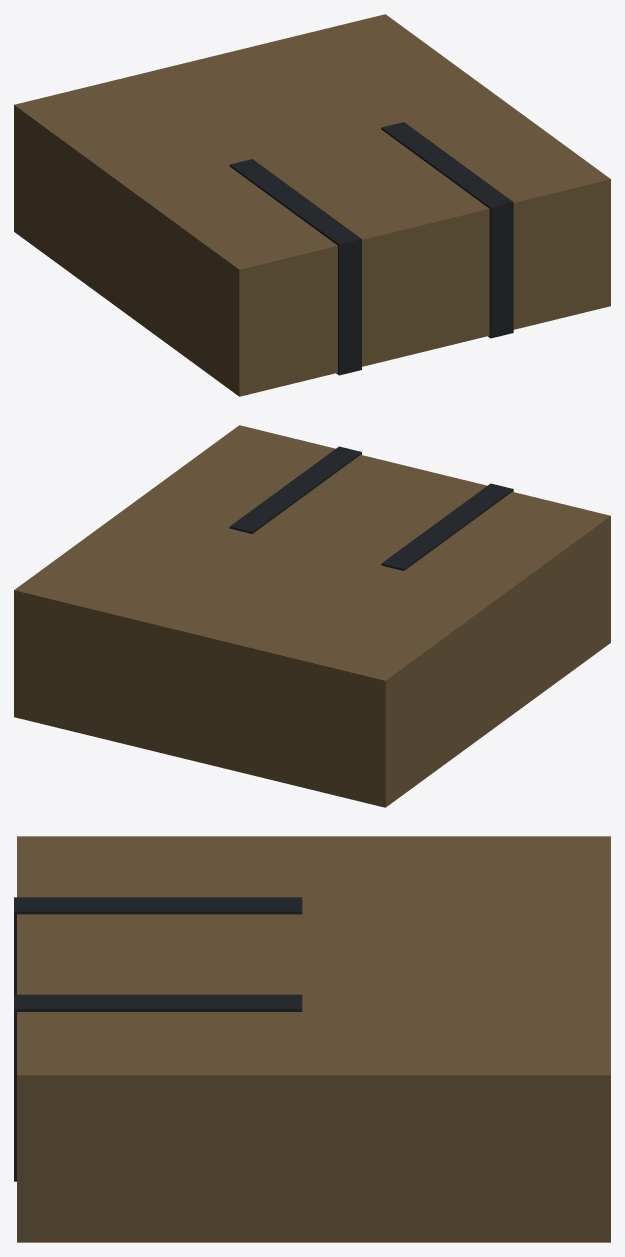
File: pc_engineer_hand.fbx
The picture shows the model from 3 angles, top to bottom: view 1: azimuth 30°, elevation 25°; view 2: azimuth 150°, elevation 25°; view 3: azimuth 270°, elevation 25°; orthographic projection. The views are drawn at different scales.
Parts seen in each view (by area): view 1: pc_engineer_hand; view 2: pc_engineer_hand; view 3: pc_engineer_hand.
Part boxes in pixels (<box>): pc_engineer_hand: <box>14,14,610,396</box>; pc_engineer_hand: <box>14,425,610,807</box>; pc_engineer_hand: <box>14,836,610,1242</box>.
Bounding box in the file's own units: 98 × 33 × 104.
